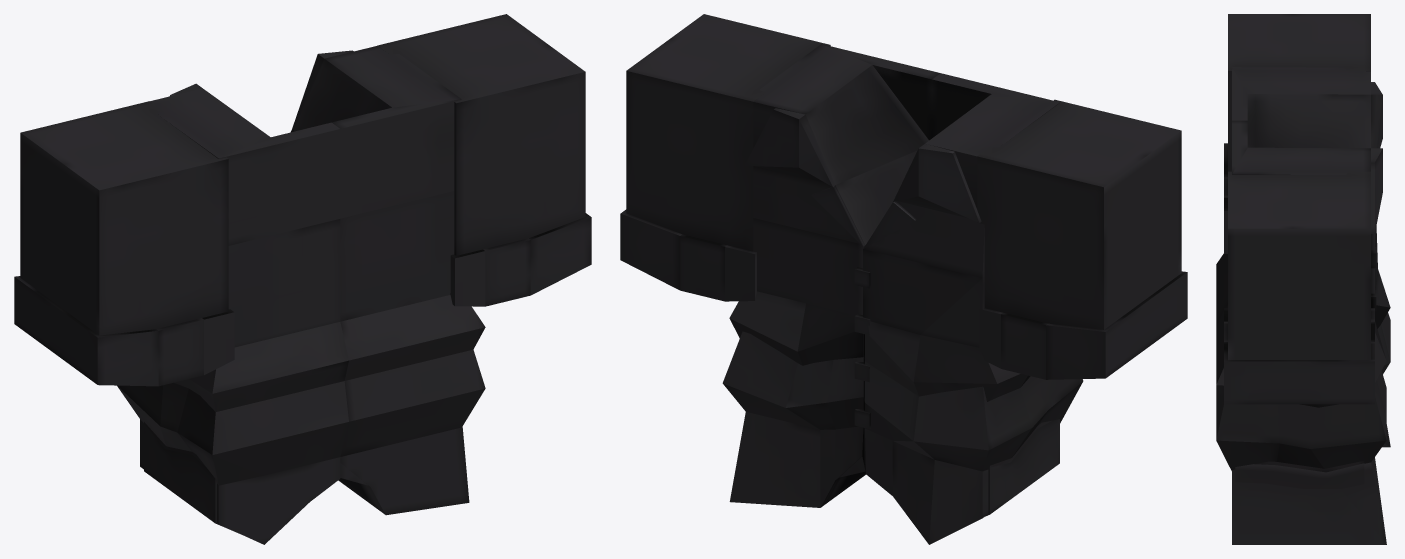
3 renders of one model, left to right at view 1: azimuth 30°, elevation 25°; view 2: azimuth 150°, elevation 25°; view 3: azimuth 270°, elevation 25°, orthographic. The views are drawn at different scales.
Parts seen in each view (by area): view 1: body, left_arm, right_arm, body_flat; view 2: body, left_arm, right_arm, body_flat; view 3: body, right_arm, left_arm, body_flat.
Part boxes in pixels (x1,y1,x2,y2): body: [117, 45, 485, 544]; left_arm: [14, 101, 234, 386]; right_arm: [377, 14, 591, 306]; body_flat: [144, 422, 383, 533]; body: [722, 44, 1083, 544]; left_arm: [977, 99, 1187, 379]; right_arm: [620, 14, 830, 301]; body_flat: [824, 68, 1059, 516]; body: [1216, 67, 1390, 544]; right_arm: [1224, 171, 1374, 404]; left_arm: [1224, 14, 1370, 253]; body_flat: [1235, 461, 1364, 488].
Bounding box in the file's own units: 1.03 × 0.8048 × 0.3469.
Materials: 1 (1 with a texture image).
